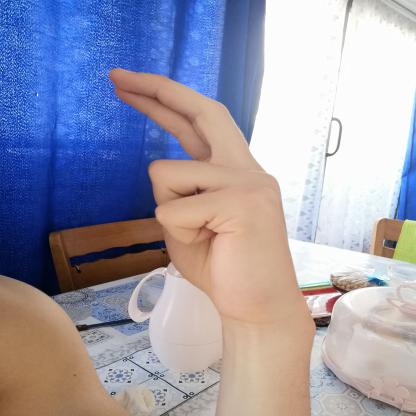ZAY: (98, 58, 320, 332)
